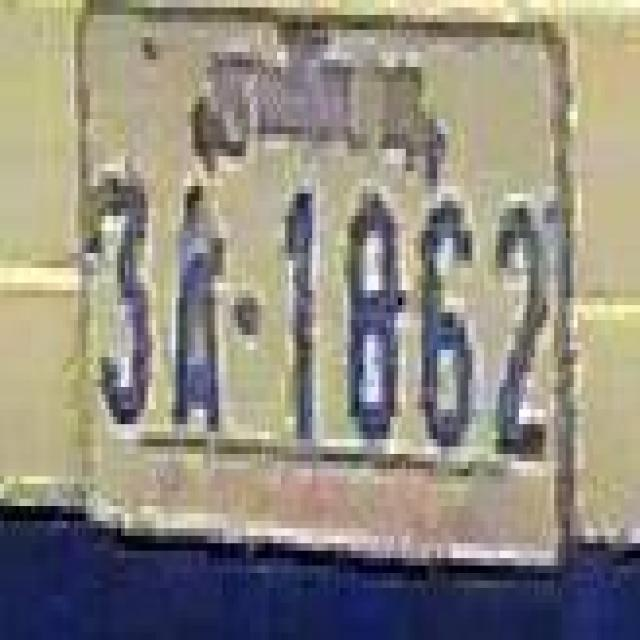Preah_Sihanouk: (211, 15, 428, 176)
